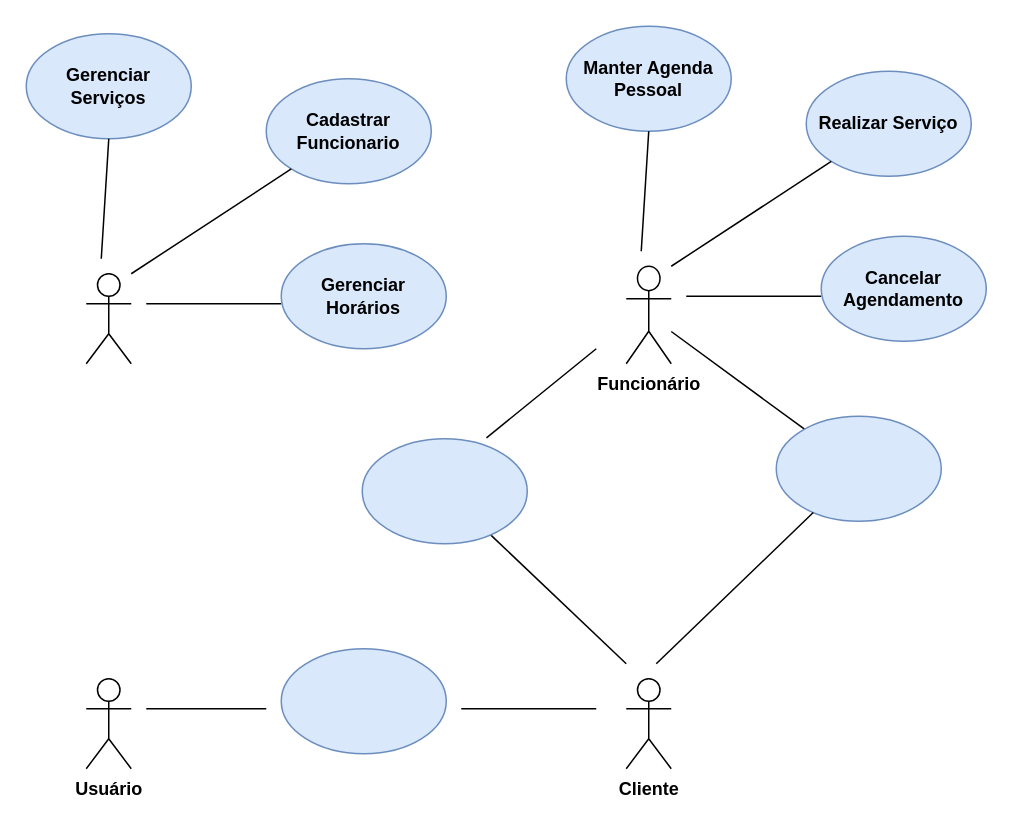
Image size: 1013x827. Some labels were removed from this diagram. Here are the shapes that lost their labels. From the top down, the box of each, then its label:
(85, 272, 131, 364): Adm
(775, 415, 941, 521): Marcar Agendamento
(361, 437, 527, 544): Manter Perfil
(280, 647, 446, 754): Consultar Serviços
